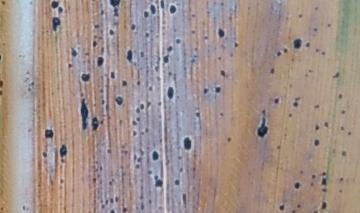tarspot: (254, 105, 270, 142), (78, 98, 90, 133), (50, 14, 64, 34), (108, 1, 121, 20), (58, 140, 68, 164), (181, 134, 194, 152), (90, 113, 101, 133), (113, 92, 125, 109), (25, 77, 36, 95), (79, 70, 93, 84), (43, 126, 56, 141), (125, 45, 134, 65), (179, 190, 189, 208), (153, 174, 164, 189), (95, 53, 106, 68), (103, 196, 121, 205), (292, 36, 303, 50), (69, 44, 79, 59), (151, 148, 161, 162), (166, 85, 175, 100), (311, 101, 323, 112), (216, 26, 226, 39), (161, 52, 171, 65), (168, 4, 178, 16), (89, 173, 98, 186), (40, 148, 49, 161), (120, 78, 130, 89), (103, 145, 113, 156), (320, 176, 329, 188), (149, 3, 158, 15), (49, 1, 61, 10), (216, 109, 226, 119), (337, 88, 344, 102), (322, 118, 330, 130), (219, 67, 227, 79), (1, 78, 5, 101), (143, 8, 150, 21), (224, 134, 233, 144), (201, 85, 210, 95), (173, 177, 182, 187), (165, 44, 174, 54), (129, 22, 138, 32), (107, 28, 117, 37), (19, 203, 28, 213), (321, 200, 329, 211), (293, 179, 301, 190), (313, 136, 321, 147), (273, 95, 281, 106), (232, 39, 240, 50), (174, 35, 182, 46), (91, 23, 102, 31), (90, 38, 98, 49), (109, 69, 116, 81), (273, 142, 282, 151), (332, 70, 341, 79), (213, 85, 222, 94), (57, 176, 66, 185), (313, 123, 321, 133), (304, 39, 312, 49), (158, 1, 166, 11), (58, 4, 66, 14), (278, 201, 285, 212), (269, 65, 276, 76), (311, 23, 318, 34), (340, 150, 348, 159), (336, 185, 344, 194), (291, 100, 299, 109), (131, 118, 139, 127), (138, 101, 146, 110), (143, 30, 151, 39), (66, 61, 74, 70), (99, 98, 106, 108), (147, 83, 154, 93), (294, 203, 302, 211), (320, 186, 328, 194), (286, 111, 294, 119), (134, 107, 142, 115), (320, 49, 327, 58), (194, 110, 201, 119), (131, 128, 138, 137), (135, 79, 142, 88), (98, 7, 104, 17), (298, 168, 305, 176), (346, 129, 353, 137), (339, 124, 346, 132), (339, 108, 346, 116), (314, 46, 321, 54), (177, 165, 184, 173), (134, 162, 141, 170), (139, 51, 146, 59), (121, 206, 129, 213), (276, 49, 282, 58), (338, 176, 344, 184), (310, 173, 316, 181), (324, 22, 332, 28), (107, 208, 116, 213), (309, 181, 315, 188), (282, 47, 288, 54), (298, 12, 304, 19), (137, 157, 143, 164), (144, 127, 150, 134), (321, 171, 327, 177), (291, 208, 297, 213), (312, 209, 319, 213)
